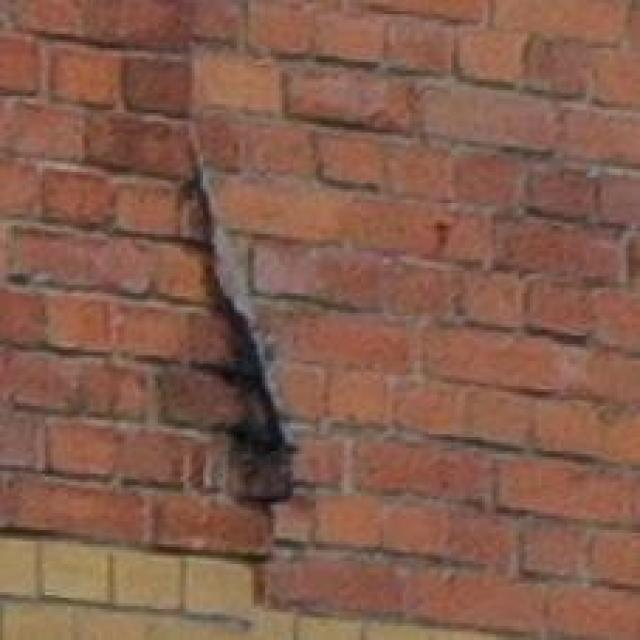Crack: (134, 112, 374, 632)
